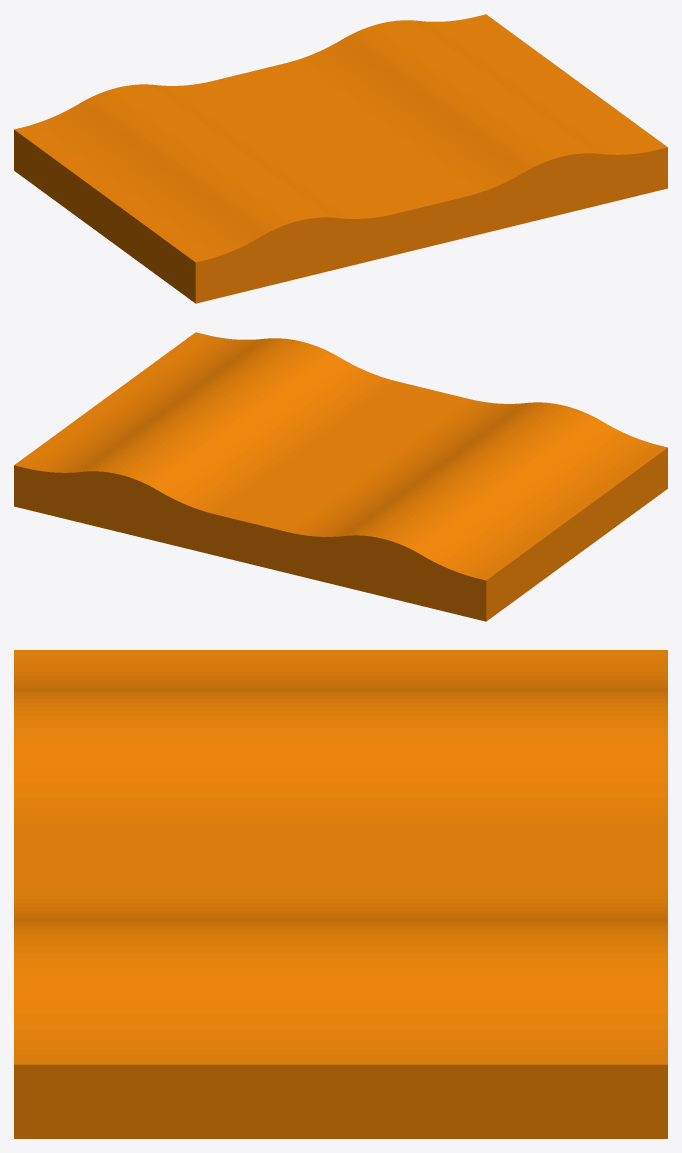
File: wavy_table.dae
The picture shows the model from 3 angles, top to bottom: view 1: azimuth 30°, elevation 25°; view 2: azimuth 150°, elevation 25°; view 3: azimuth 270°, elevation 25°; orthographic projection. The views are drawn at different scales.
Visible parts, largest first — view 1: ID2; view 2: ID2; view 3: ID2.
Part boxes in pixels (bbox=[...]): ID2: bbox=[14, 14, 667, 303]; ID2: bbox=[14, 332, 667, 621]; ID2: bbox=[14, 650, 667, 1138].
Bounding box in the file's own units: 0.3048 × 0.2032 × 0.0356.
